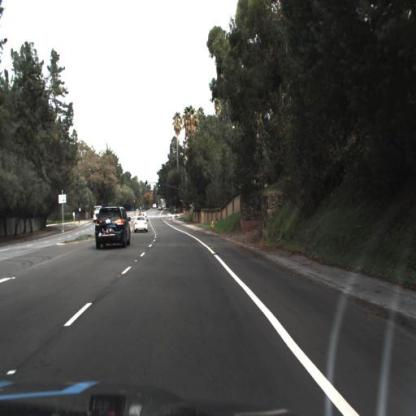car: (97, 206, 132, 250), (134, 212, 150, 235)
trafficLight-Green: (158, 177, 163, 194), (144, 176, 149, 192)
trafficLight-Red: (132, 196, 137, 208)
truck: (92, 204, 104, 226)
